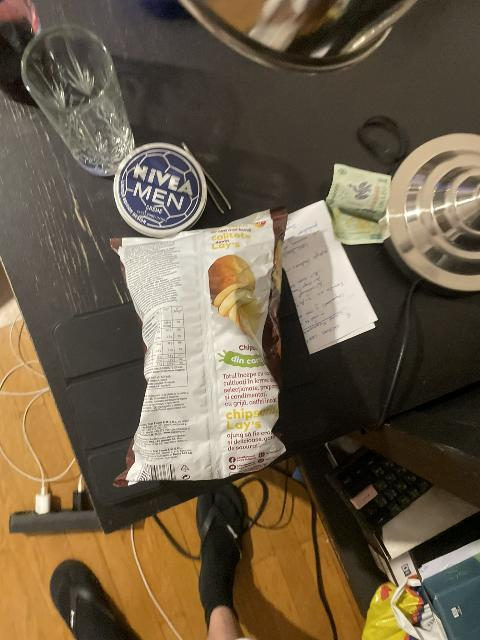Lays Beef Grilled Ribs 125g: (110, 204, 317, 490)
